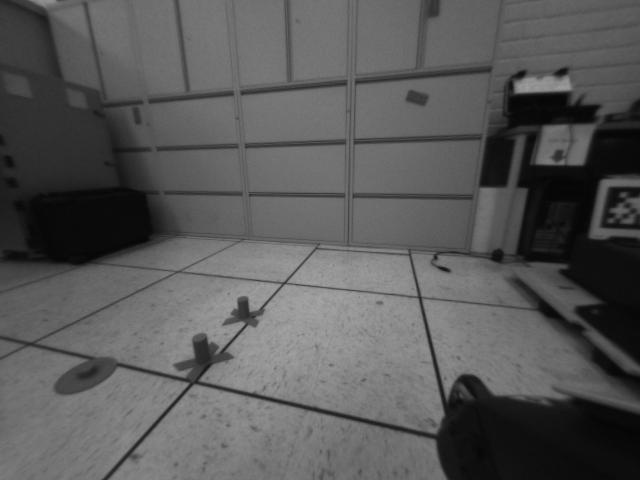X: (174, 333, 235, 385), (222, 296, 267, 327)
